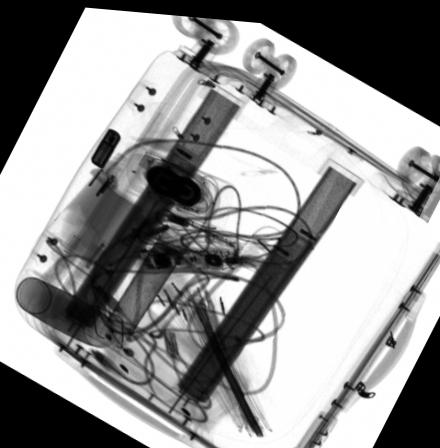Lighter: (91, 125, 121, 166)
